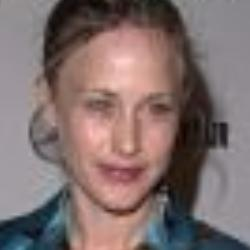face: (20, 1, 215, 231)
